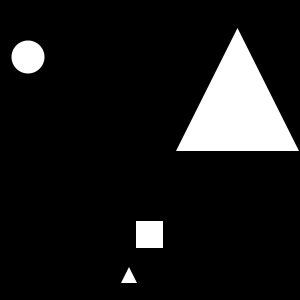circle: (136, 221, 163, 248)
rectangle: (12, 40, 44, 74)
triangle: (176, 28, 299, 151), (121, 267, 137, 283)
